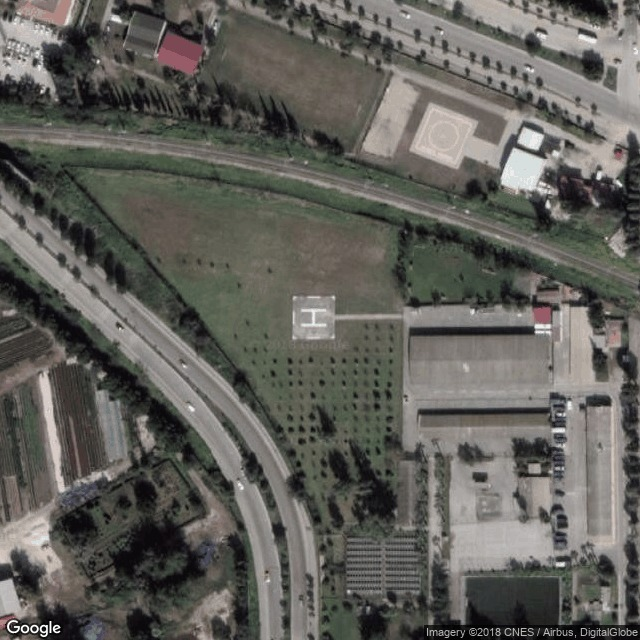heliport: (297, 304, 330, 331)
